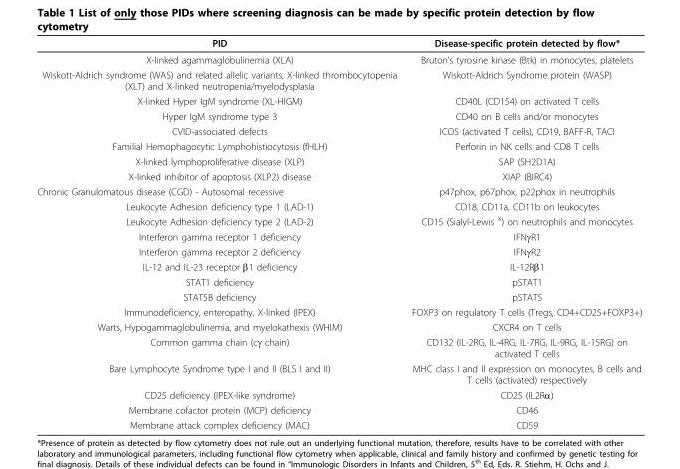table: (36, 36, 641, 430)
table column: (36, 36, 403, 430), (403, 36, 641, 430)
table column header: (36, 36, 641, 51)
table row: (36, 66, 641, 93), (36, 333, 641, 360), (36, 360, 641, 386), (36, 258, 641, 274), (36, 386, 641, 402), (36, 36, 641, 51), (36, 51, 641, 66), (36, 93, 641, 108), (36, 108, 641, 123), (36, 123, 641, 138), (36, 138, 641, 153), (36, 153, 641, 168), (36, 168, 641, 183), (36, 183, 641, 198), (36, 198, 641, 213), (36, 213, 641, 228), (36, 228, 641, 243), (36, 243, 641, 258), (36, 274, 641, 289), (36, 289, 641, 304), (36, 304, 641, 319), (36, 402, 641, 417), (36, 319, 641, 333), (36, 417, 641, 430)
